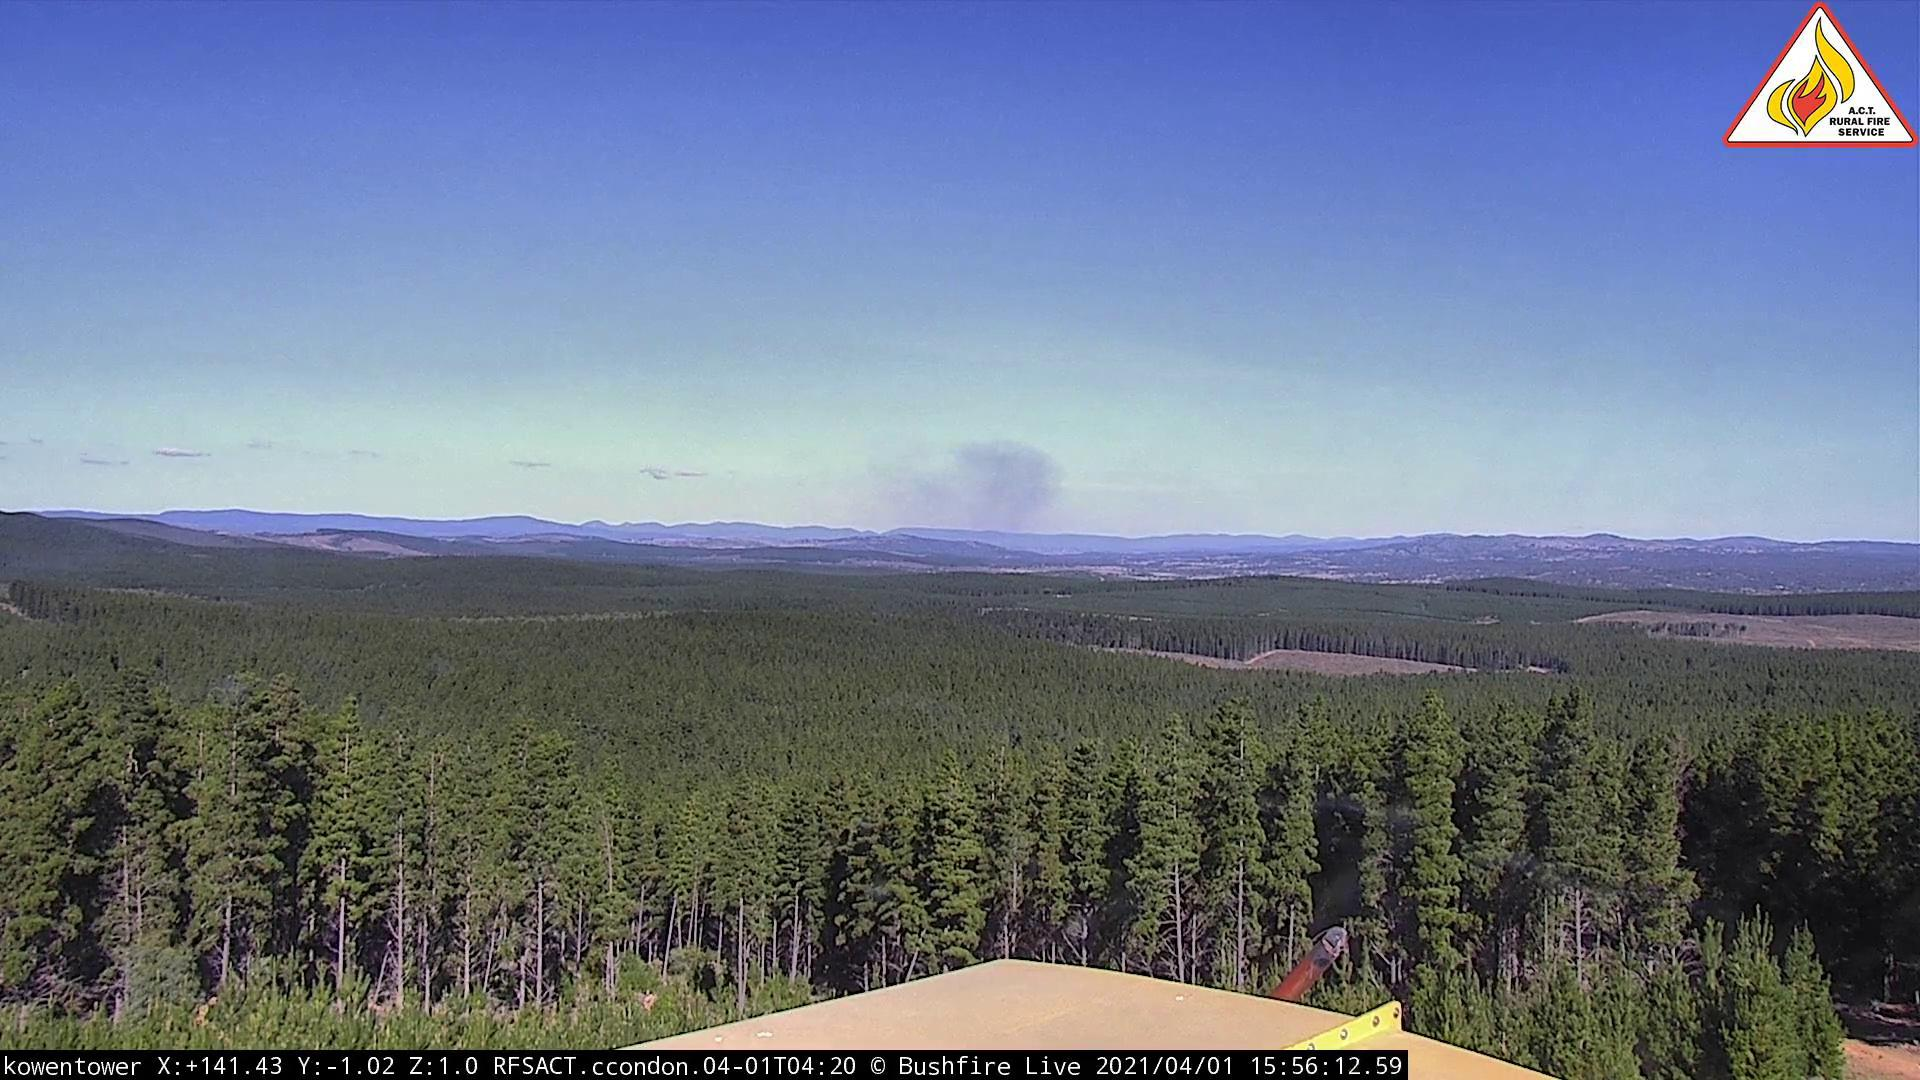Smoke: (858, 425, 1076, 553)
